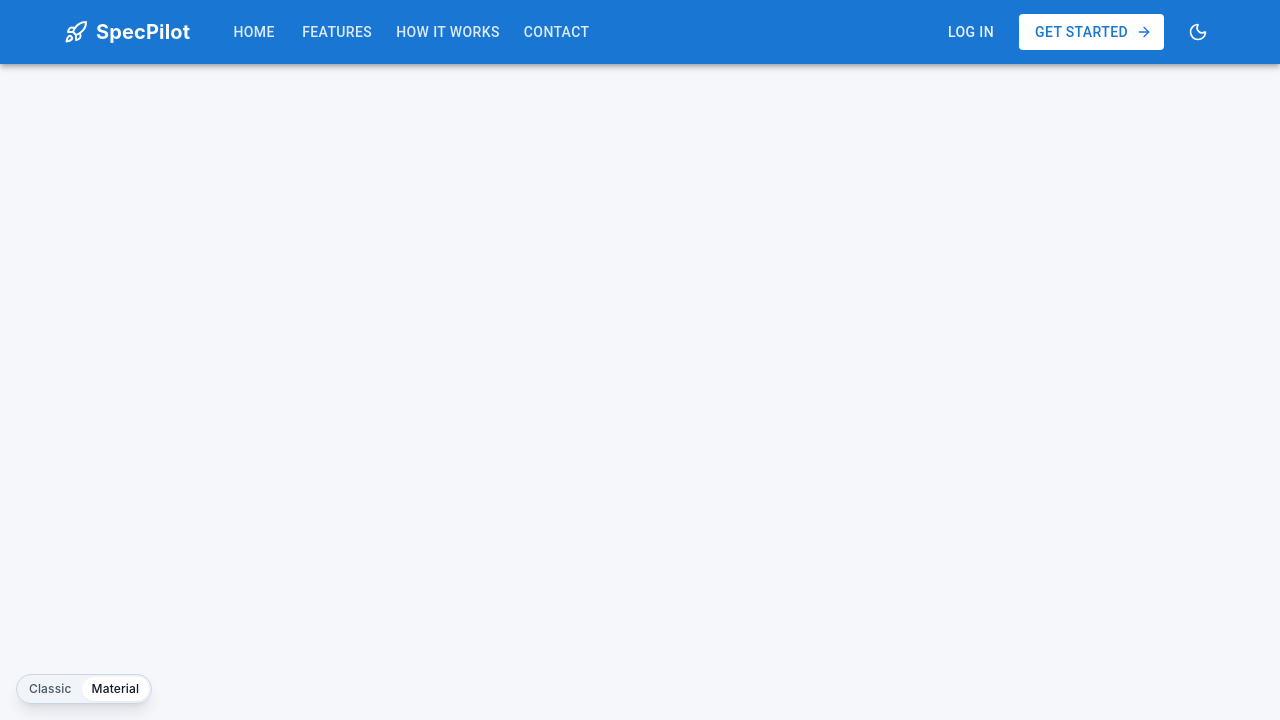
it: light/dark toggle (navbar) › is present in the Material navbar too
Click the button named "switch to dark mode". click: (1198, 32)
box: [1180,14,1216,50]
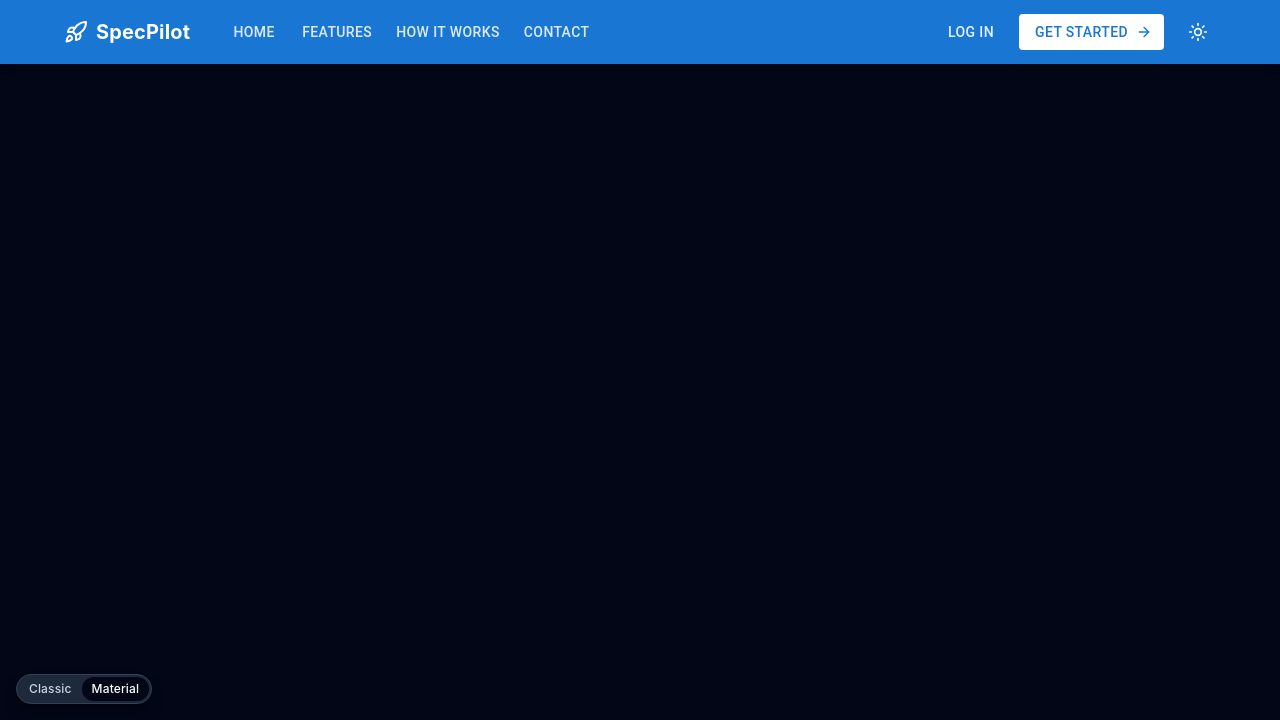
Expected: the button named "switch to light mode" is shown, [1180,14,1216,50]
